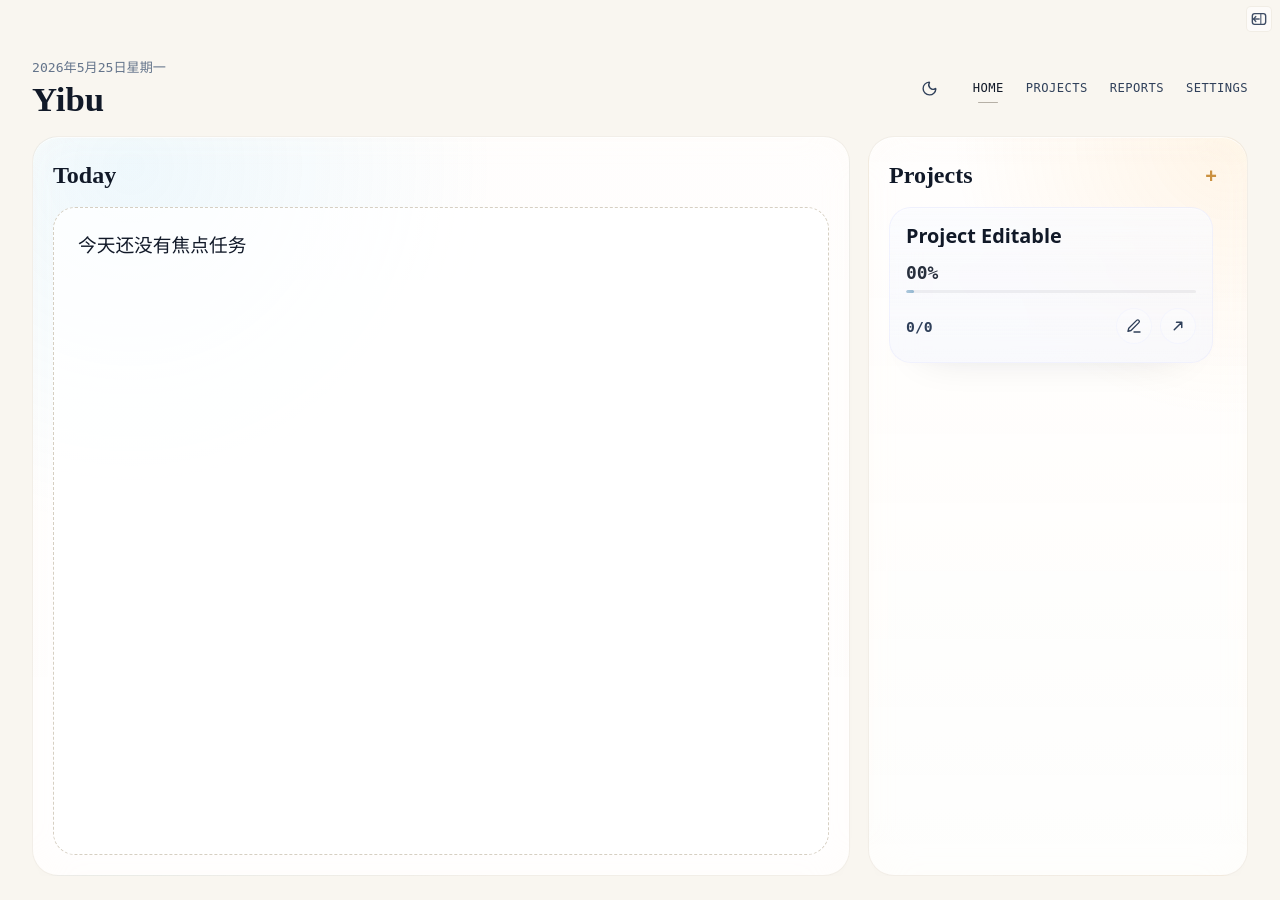
Home dashboard › edits project metadata from overview and opens unified project progress
The image size is (1280, 900).
Expected: the heading "Projects" is shown, [889,157,972,193]
Click the button named "编辑" at (1134, 326), box [1116,308,1152,344]
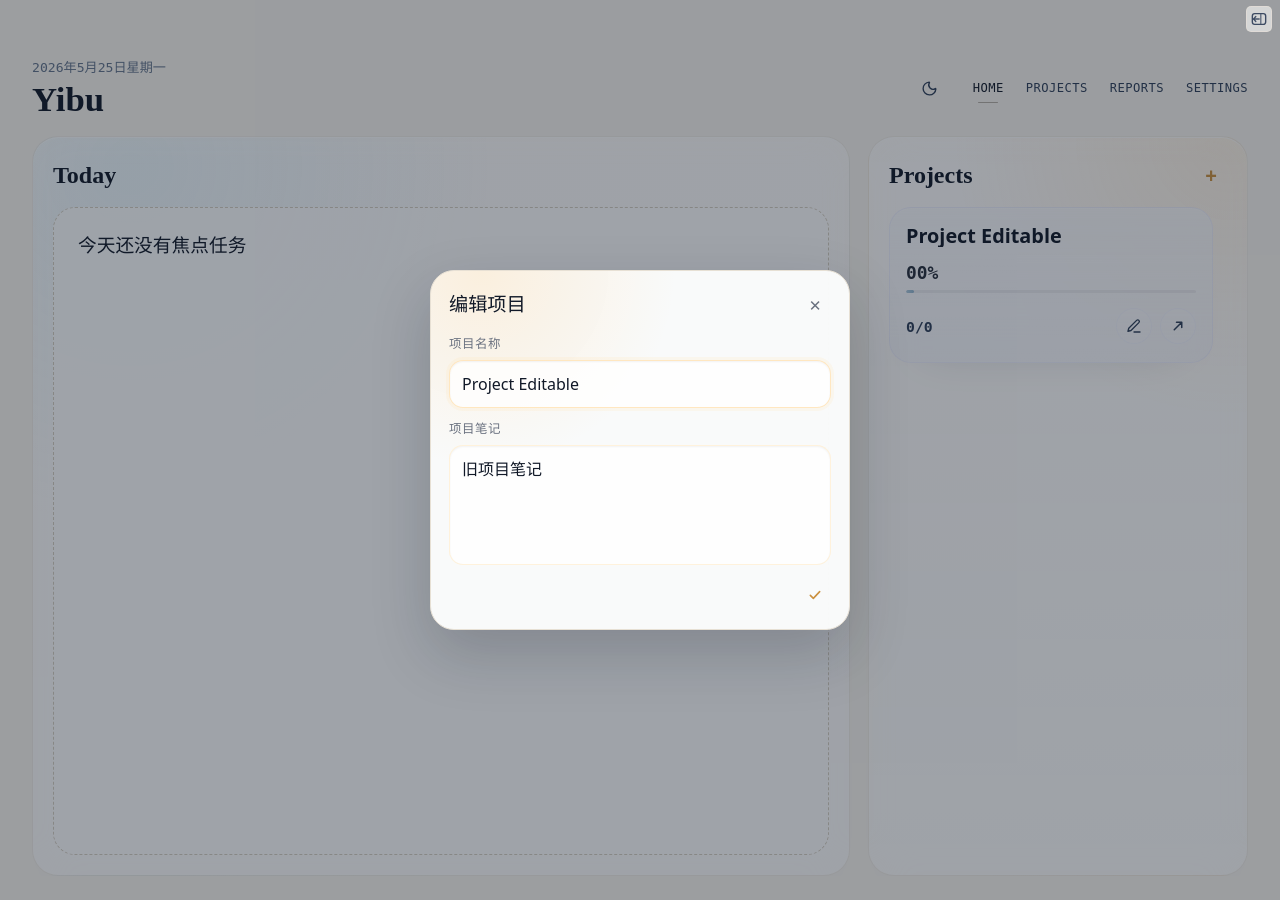
Result: the dialog "编辑项目" is shown at [430,270,850,630]
Replace the text in the field labelled "项目名称" with "Project Edited" at (640, 384), box [449,360,831,408]
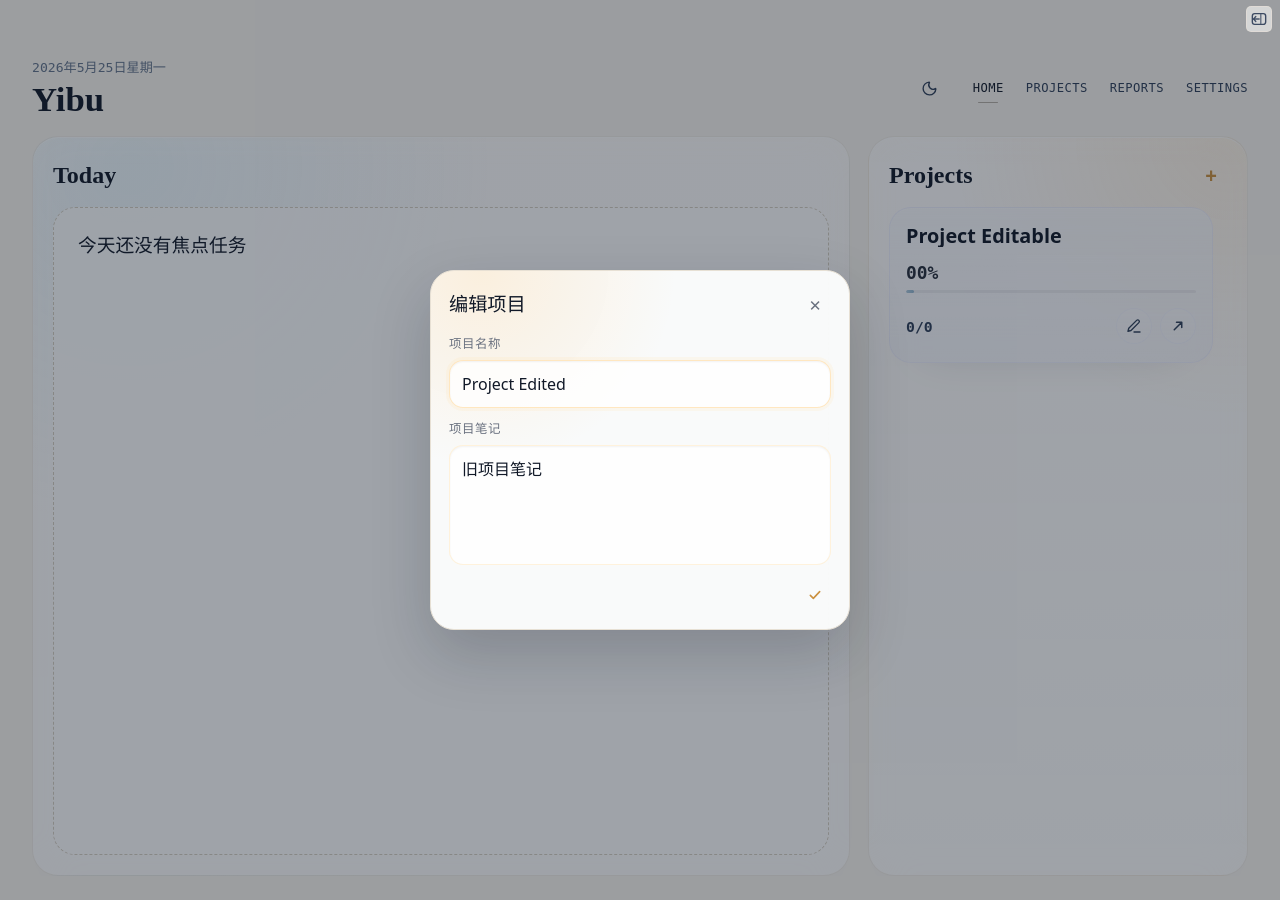
Replace the text in the text box labelled "项目笔记" with "更新后的项目笔记" at (640, 505), box [449,445,831,565]
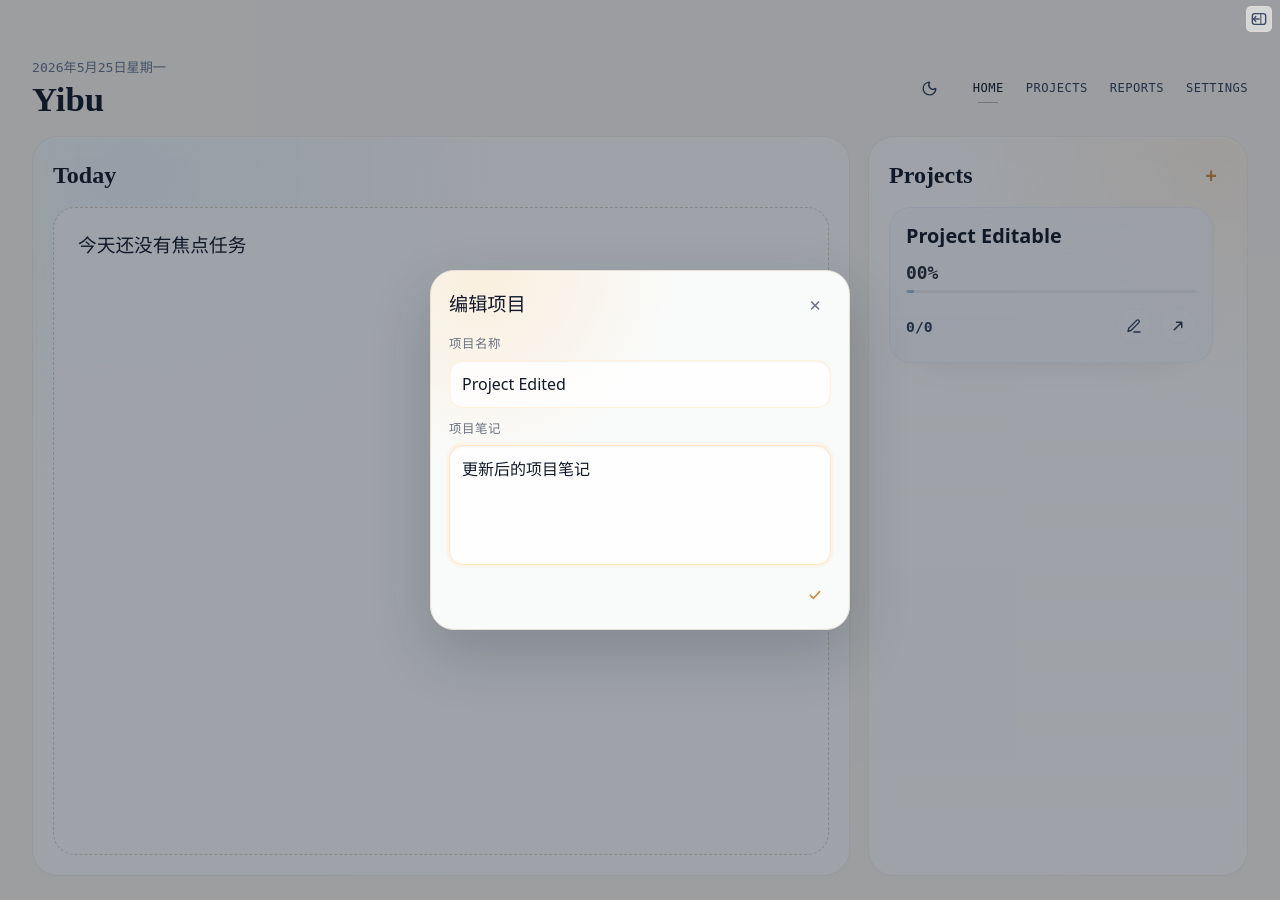
Click the button named "保存项目" at (815, 595), box [799,579,831,611]
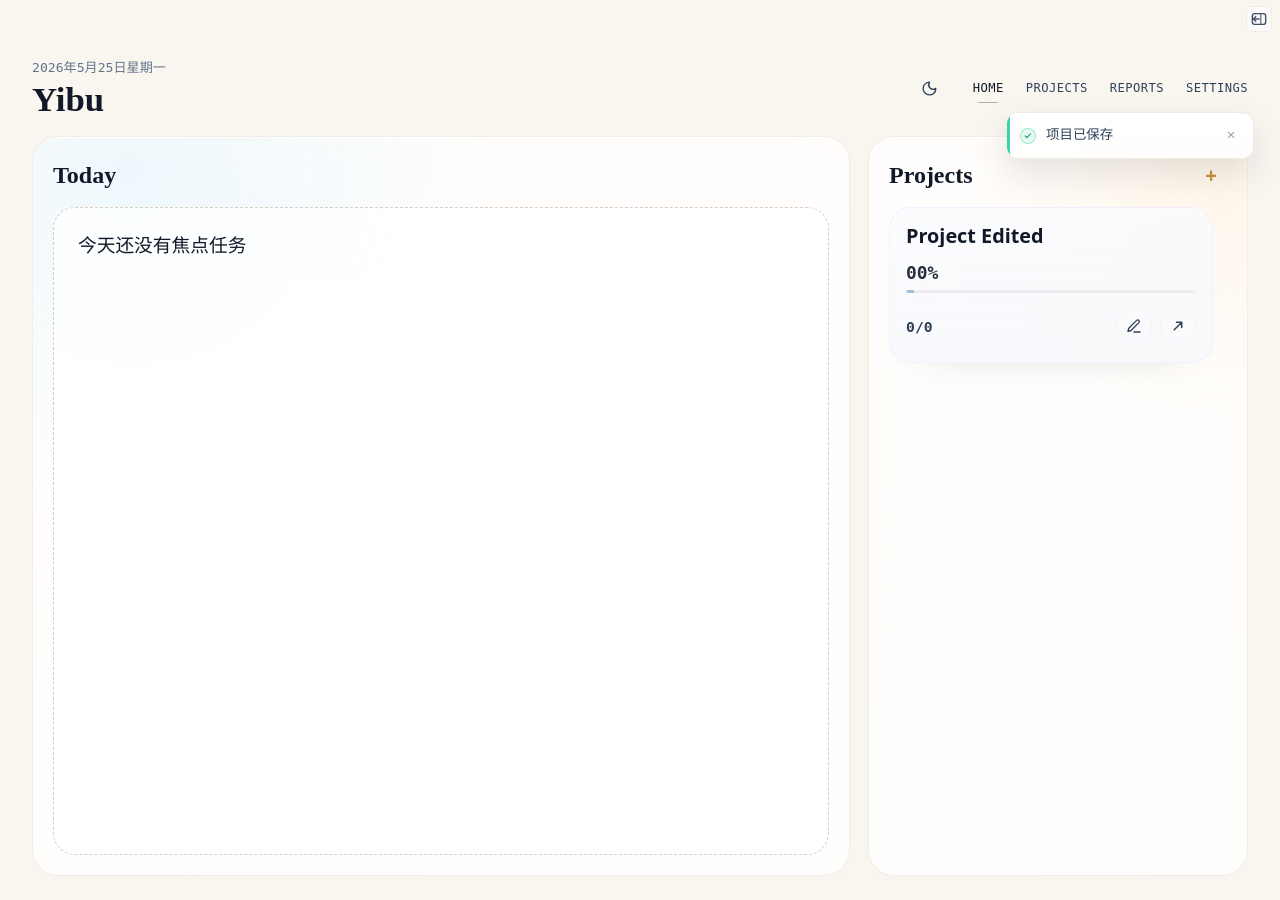
Result: the heading "Project Edited" is shown at [906,224,1044,247]
Click the button named "进入" at (1178, 326), box [1160,308,1196,344]
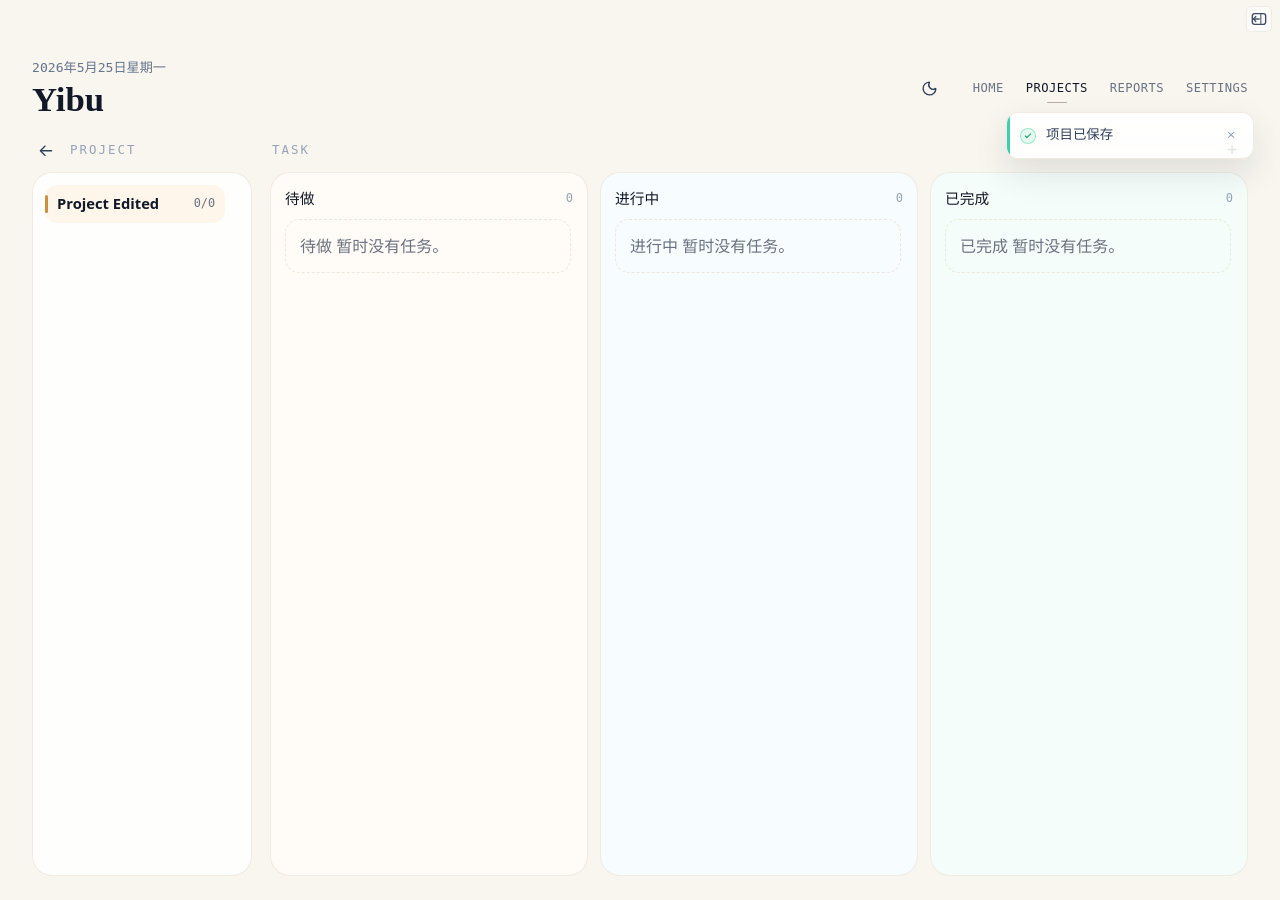
Expected: the text "更新后的项目笔记" is not shown
Result: the button "Project Edited 0/0" is shown at [45,185,225,223]
Result: the heading "TASK" is shown at [272,144,310,156]
